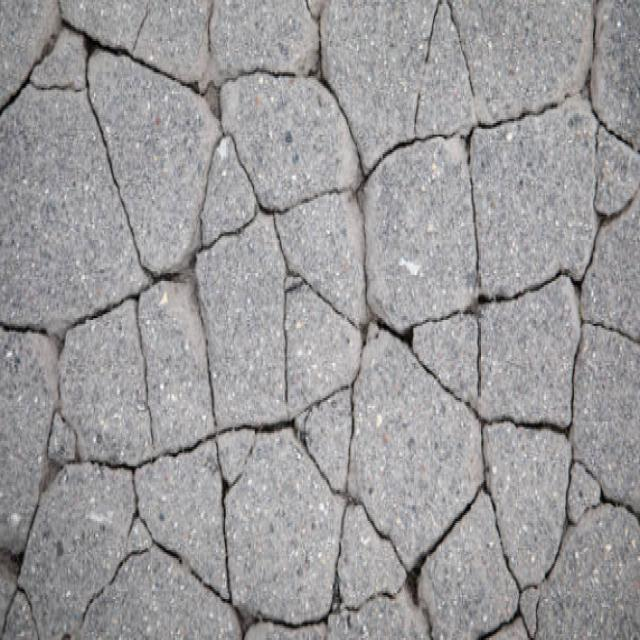network cracks: (0, 0, 639, 639)
